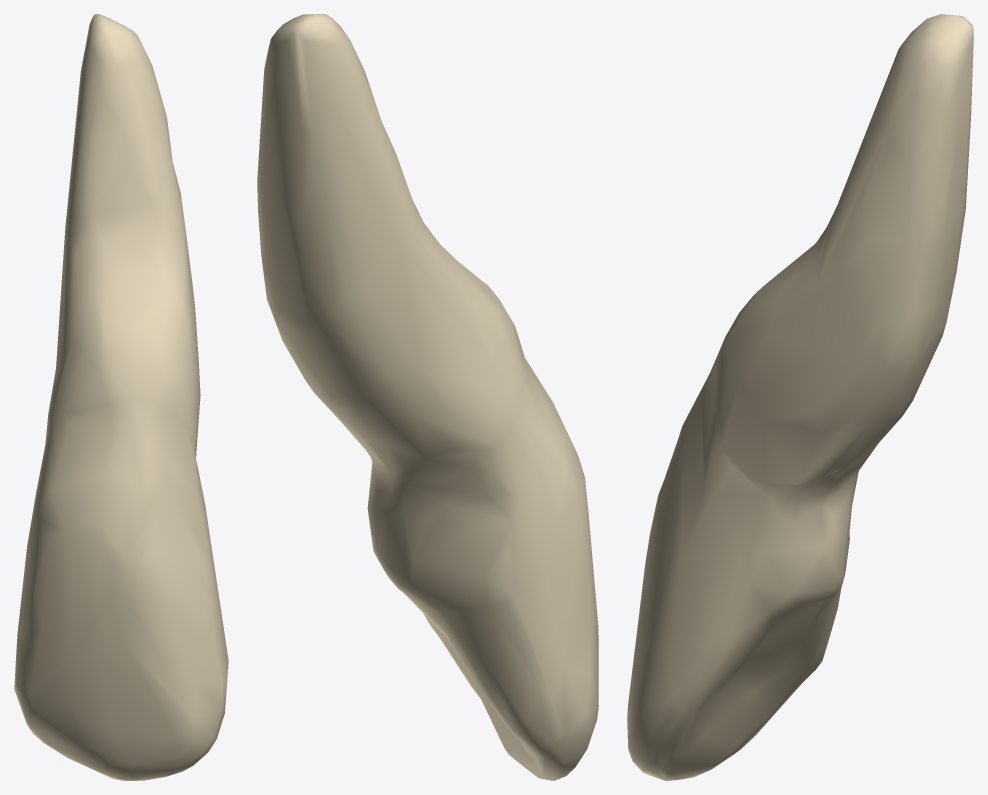
The model's file is esqueleto-upper-lateral-incisor-r.glb.
3 renders of one model, left to right at view 1: azimuth 30°, elevation 25°; view 2: azimuth 150°, elevation 25°; view 3: azimuth 270°, elevation 25°, orthographic. The views are drawn at different scales.
Parts seen in each view (by area): view 1: Upper lateral incisor.r; view 2: Upper lateral incisor.r; view 3: Upper lateral incisor.r.
Boxes of the visible parts, <box> form: Upper lateral incisor.r: <box>14,14,228,780</box>; Upper lateral incisor.r: <box>257,14,598,780</box>; Upper lateral incisor.r: <box>627,14,973,780</box>.
Size of the model in its own units: 0.00936 by 0.0282 by 0.011.
